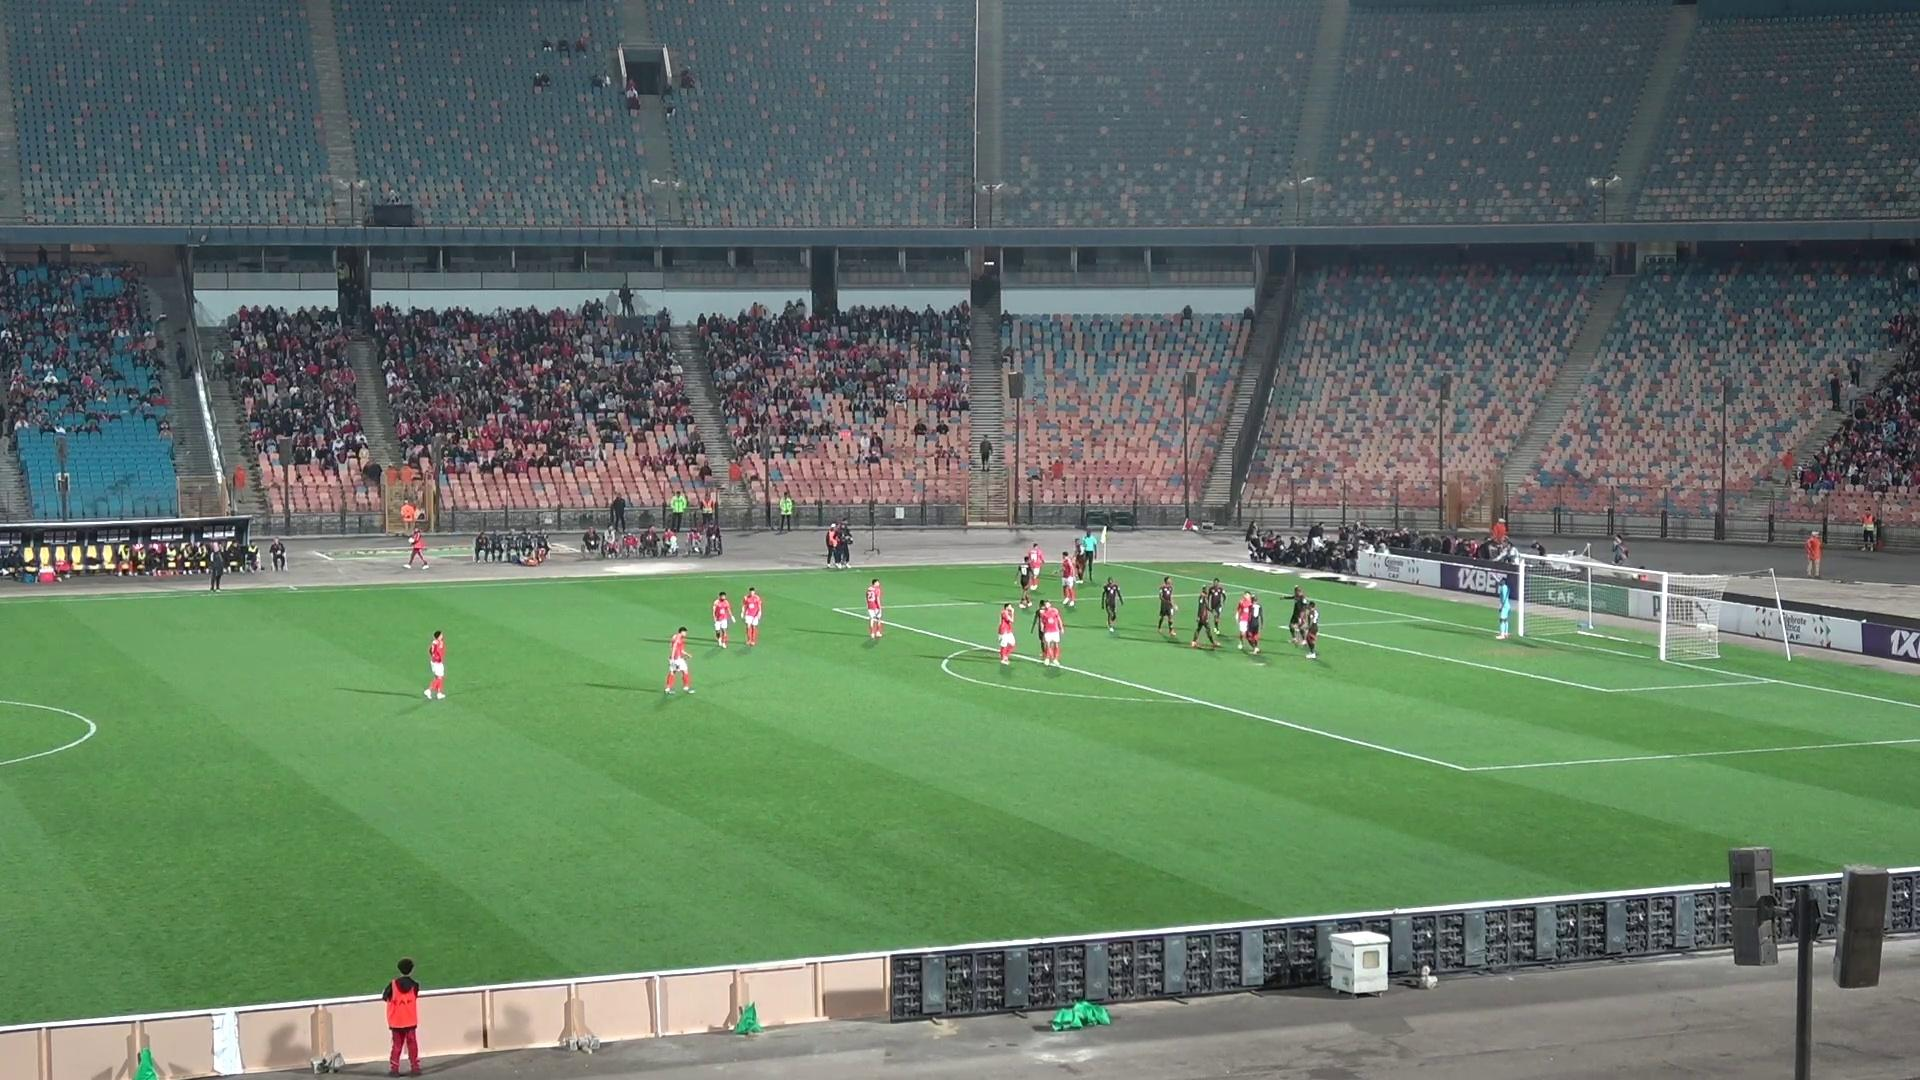GK2: (1495, 574, 1522, 638)
Refree: (1081, 525, 1104, 580)
Team1: (419, 630, 447, 700), (662, 626, 691, 692), (1036, 600, 1063, 666), (736, 587, 764, 647), (862, 578, 887, 640), (711, 589, 735, 649), (1237, 589, 1257, 647), (997, 604, 1015, 665), (1060, 551, 1080, 607), (1027, 545, 1044, 589)
Team2: (1191, 582, 1218, 647), (1240, 592, 1263, 655), (1155, 575, 1178, 641), (1284, 582, 1308, 642), (1098, 578, 1124, 632), (1299, 597, 1320, 661), (1207, 578, 1226, 632), (1014, 551, 1034, 604), (1075, 533, 1092, 582)
